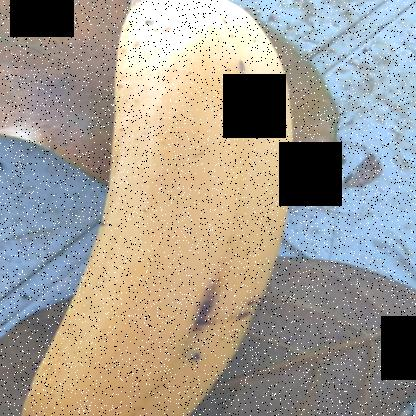freshripe: (0, 0, 309, 415)
